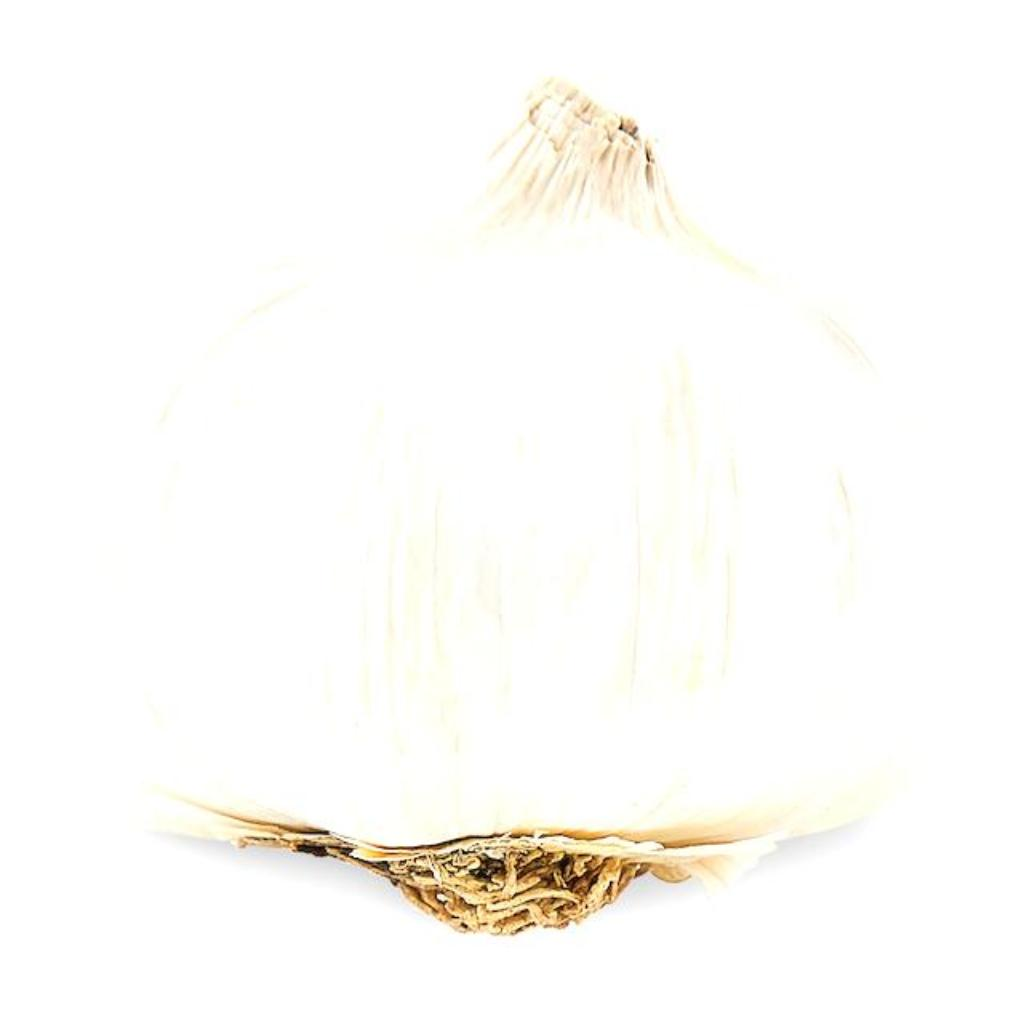garlic: (68, 85, 948, 936)
